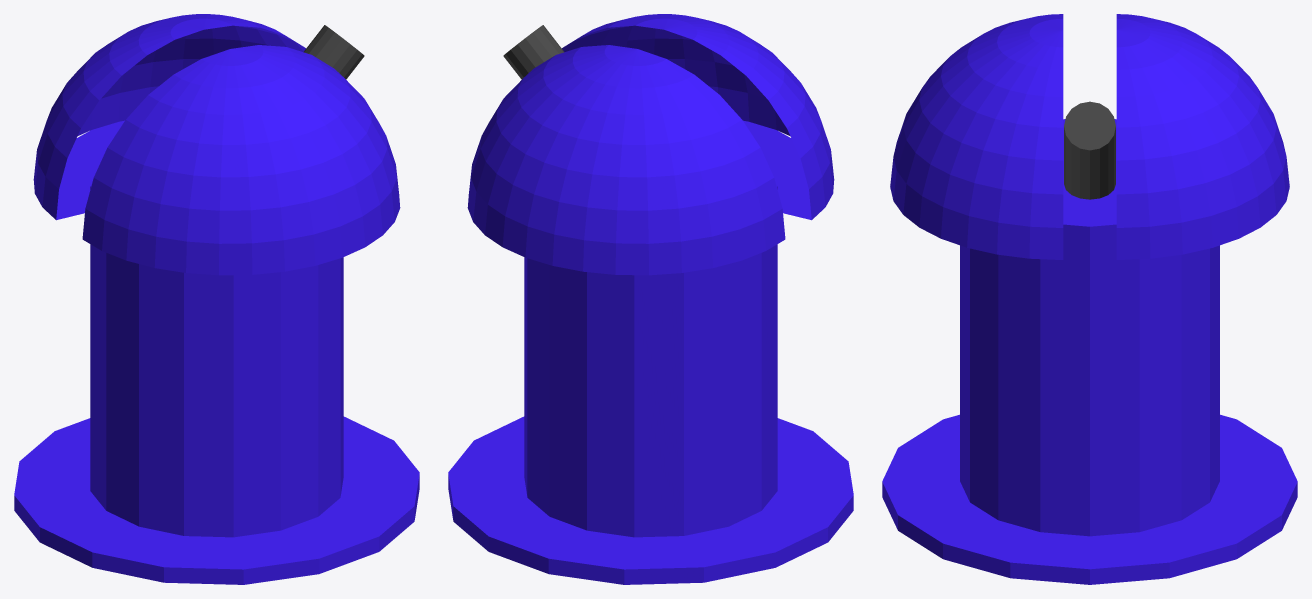
Rendered from Turret.fbx.
3 renders of one model, left to right at view 1: azimuth 30°, elevation 25°; view 2: azimuth 150°, elevation 25°; view 3: azimuth 270°, elevation 25°, orthographic.
Visible parts, largest first — view 1: Sphere, Cylinder, Cylinder.002, Cylinder.001; view 2: Sphere, Cylinder, Cylinder.002, Cylinder.001; view 3: Cylinder, Sphere, Cylinder.002, Cylinder.001.
Boxes of the visible parts, left/top/right/bottom form: Sphere: left=33, top=14, right=400, bottom=275; Cylinder: left=90, top=157, right=343, bottom=537; Cylinder.002: left=14, top=416, right=419, bottom=584; Cylinder.001: left=303, top=25, right=364, bottom=79; Sphere: left=467, top=14, right=834, bottom=275; Cylinder: left=524, top=157, right=777, bottom=537; Cylinder.002: left=448, top=416, right=853, bottom=584; Cylinder.001: left=503, top=25, right=564, bottom=79; Cylinder: left=960, top=119, right=1219, bottom=536; Sphere: left=890, top=14, right=1289, bottom=259; Cylinder.002: left=882, top=414, right=1297, bottom=584; Cylinder.001: left=1064, top=101, right=1115, bottom=199.
Bounding box in the file's own units: 240 × 298 × 240.
